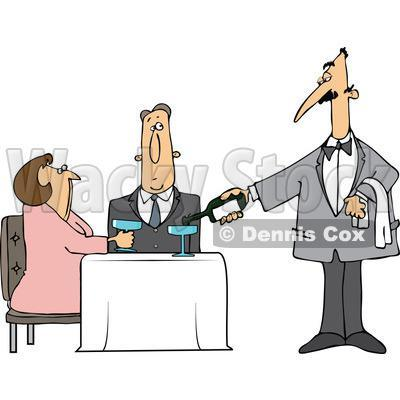bottle: (183, 189, 246, 227)
chair: (1, 214, 80, 353)
diningtable: (81, 251, 235, 352)
person: (218, 40, 400, 357), (9, 153, 130, 313), (103, 105, 203, 254)
